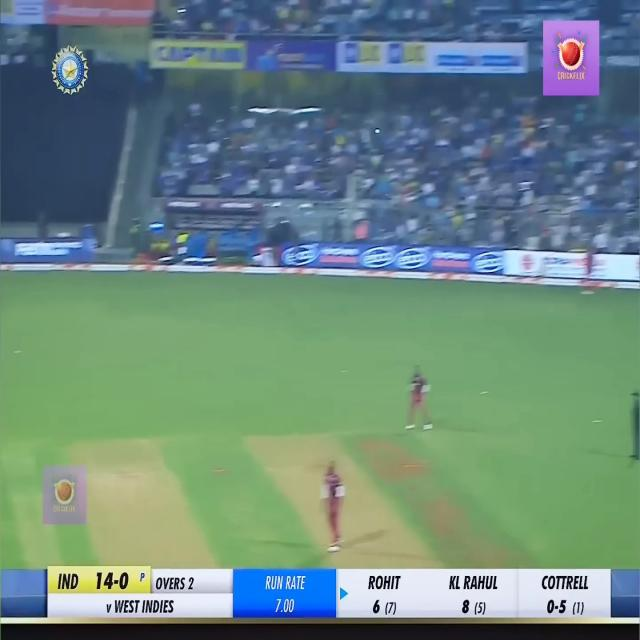fully_visible: (5, 236, 90, 266)
